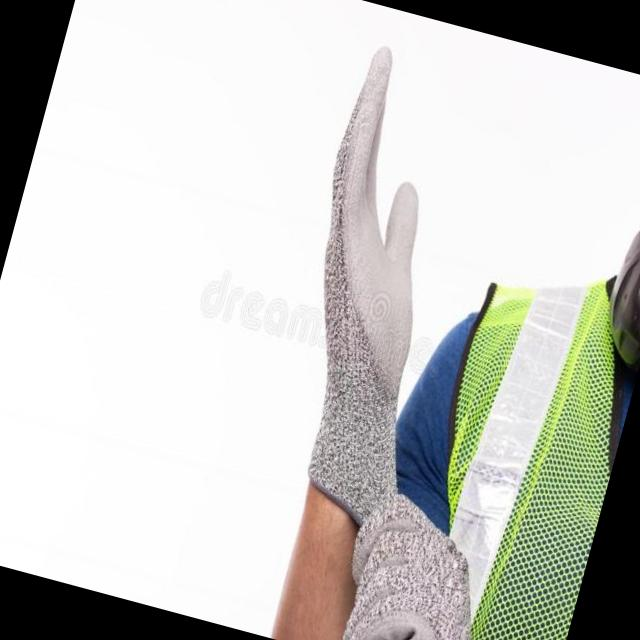Gloves: (237, 34, 507, 508), (322, 466, 504, 640)
Vest: (375, 211, 640, 640)
